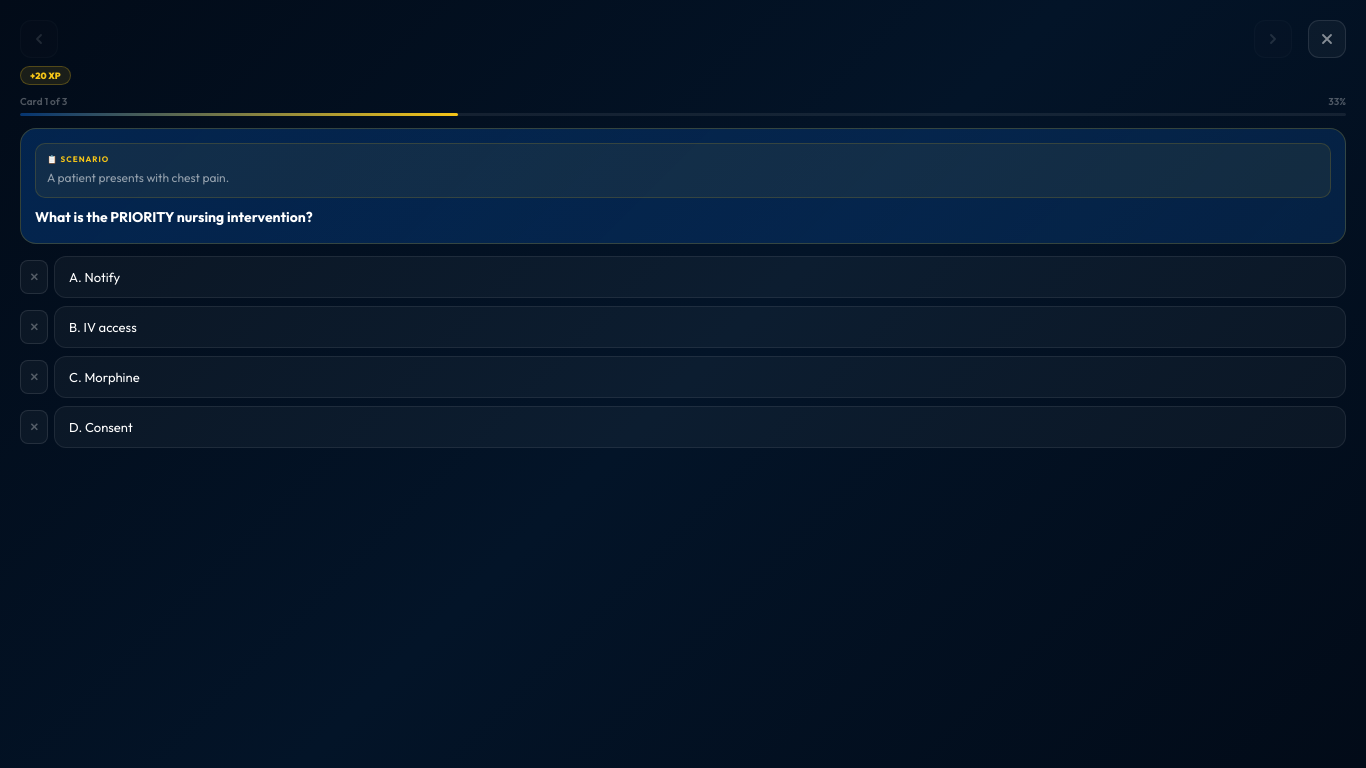
Scenario: CardScreen › clicking "Keep Going" in modal closes it
Click the button named "Exit session" at (1327, 39), box [1308,20,1346,58]
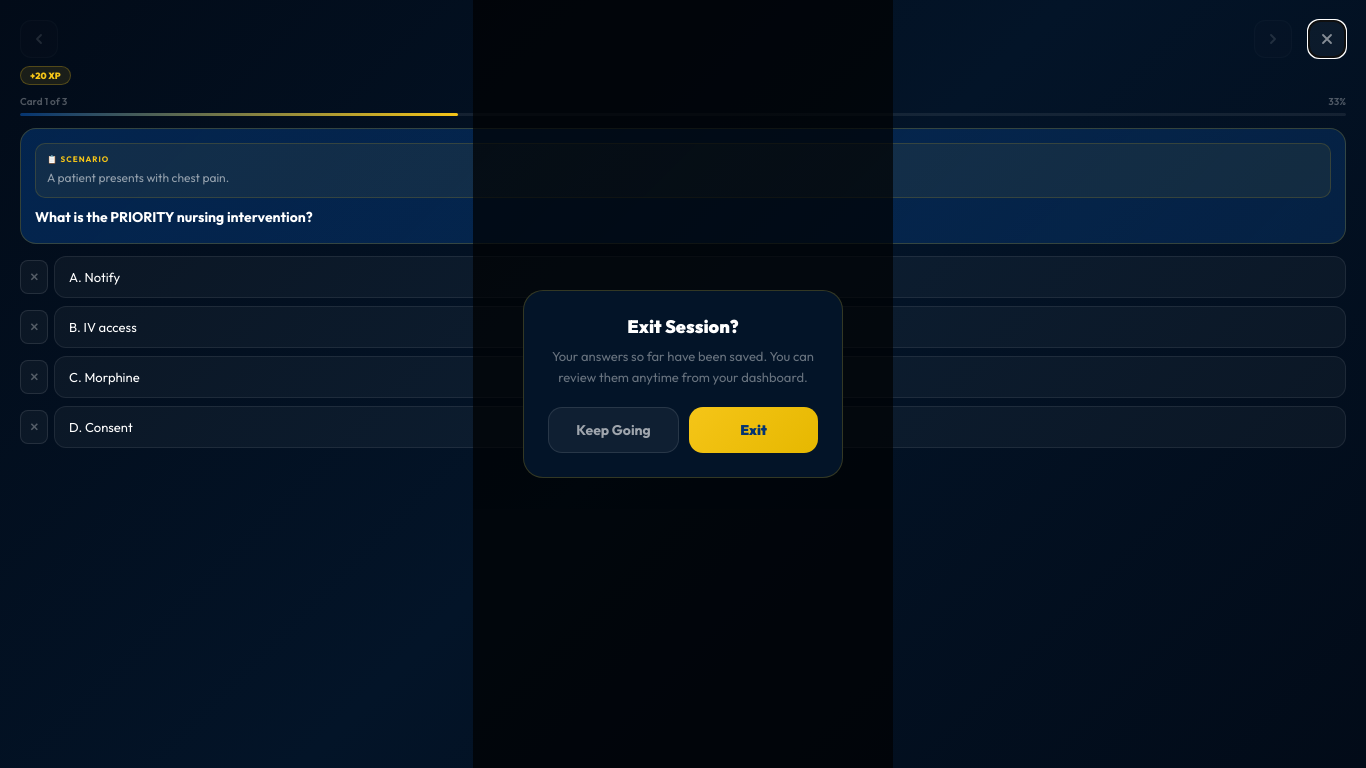
Click the button "Keep Going" at (614, 430), box [548,407,679,453]
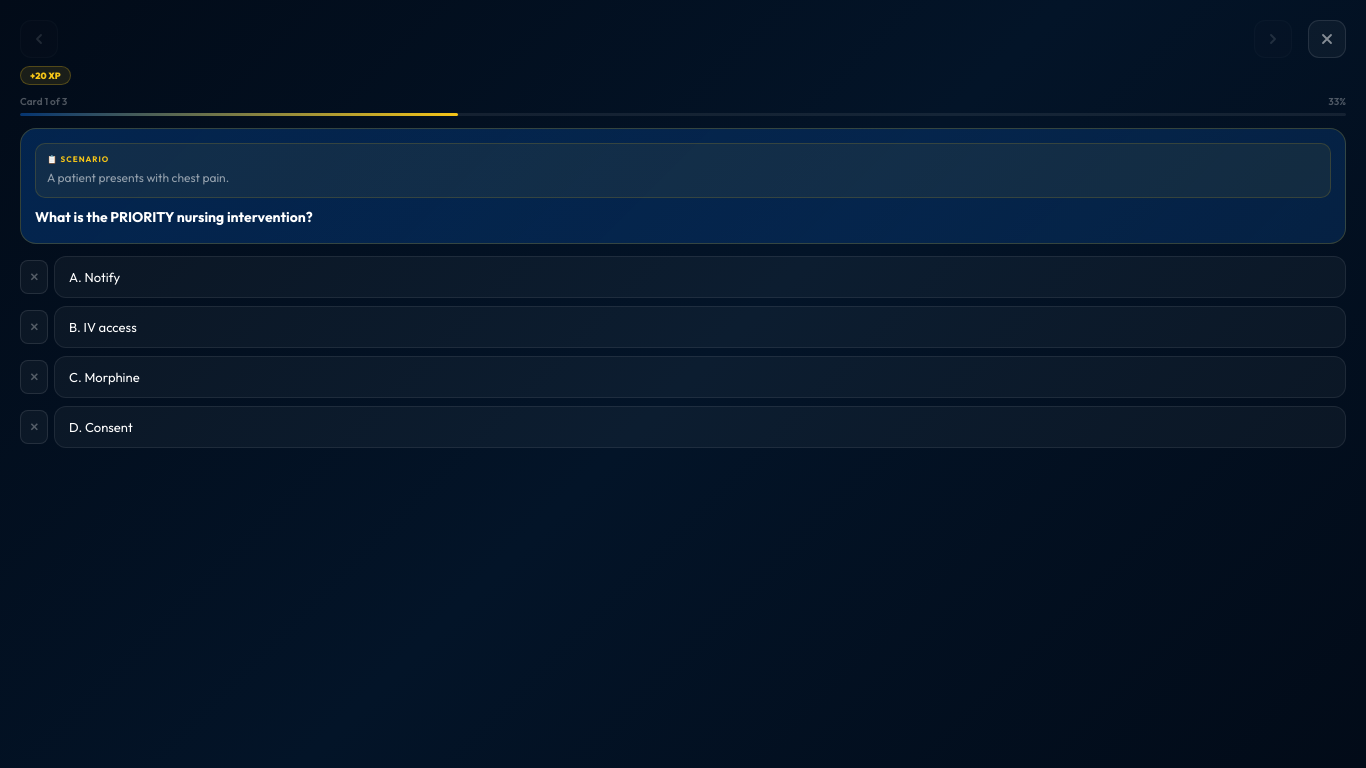
Check: the text "Exit Session?" is gone
